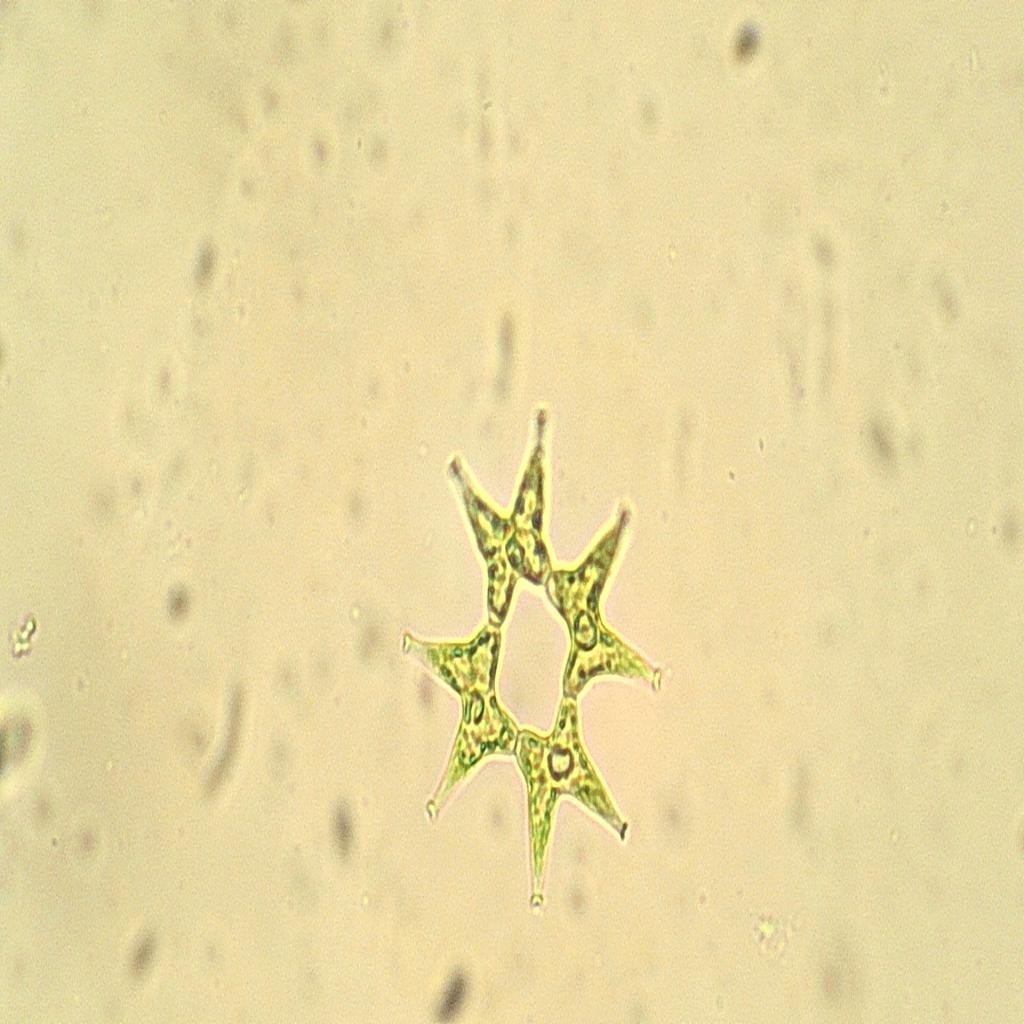Pediastrum_75O: (381, 397, 682, 931)
